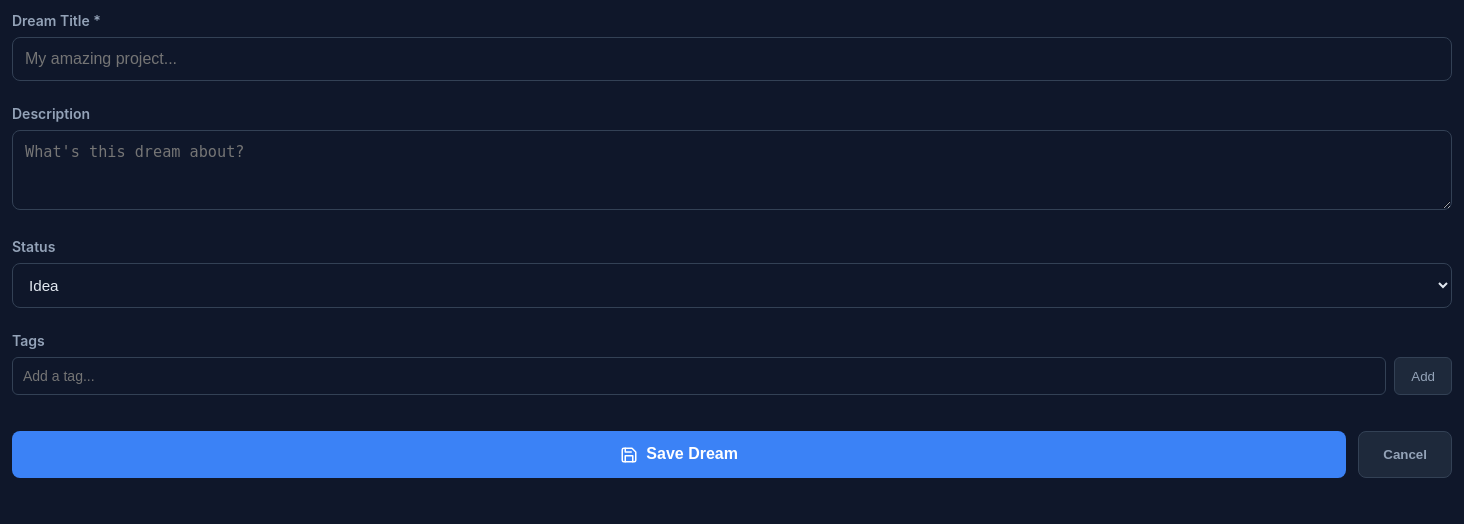
Test: DreamForm › allows user to add tags by pressing Enter
Type "enter-tag" into the field with placeholder "Add a tag...".
click(699, 376); type("enter-tag")  # box [12,357,1386,395]
Then press Enter
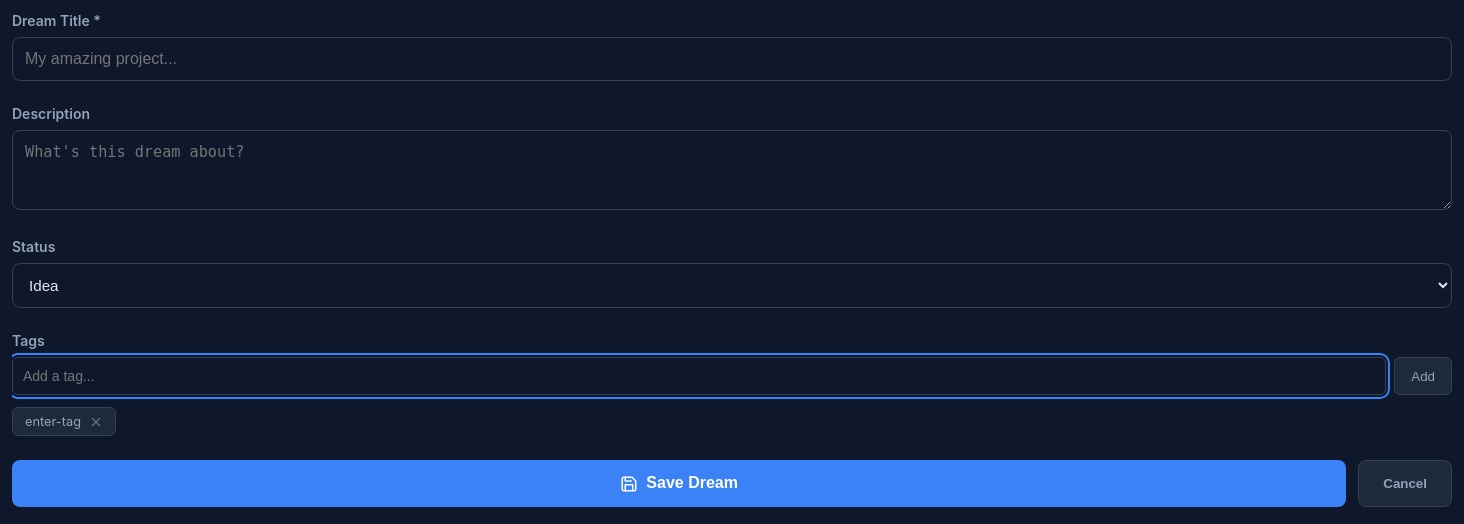
Expected: the text "enter-tag" is shown, [12,407,116,436]
